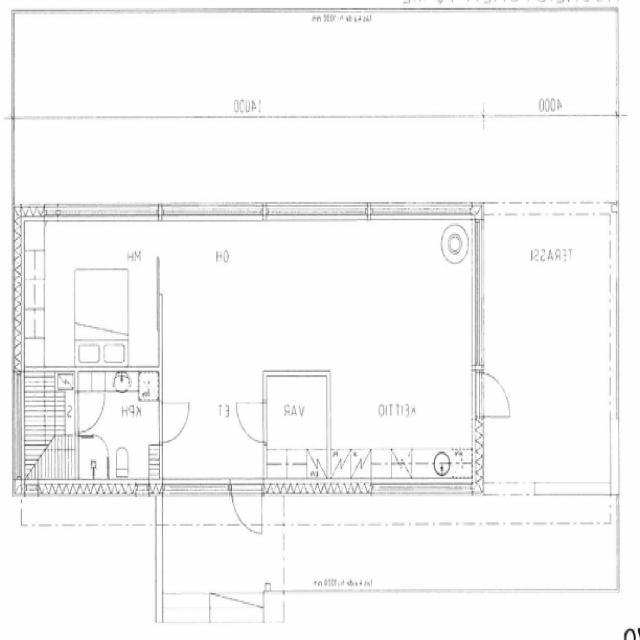door: (472, 373, 514, 416), (231, 477, 261, 537), (235, 403, 267, 442), (74, 393, 105, 432), (158, 403, 188, 442)
